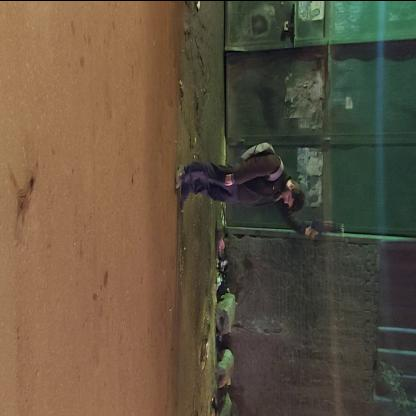long weapon: (300, 210, 354, 250)
